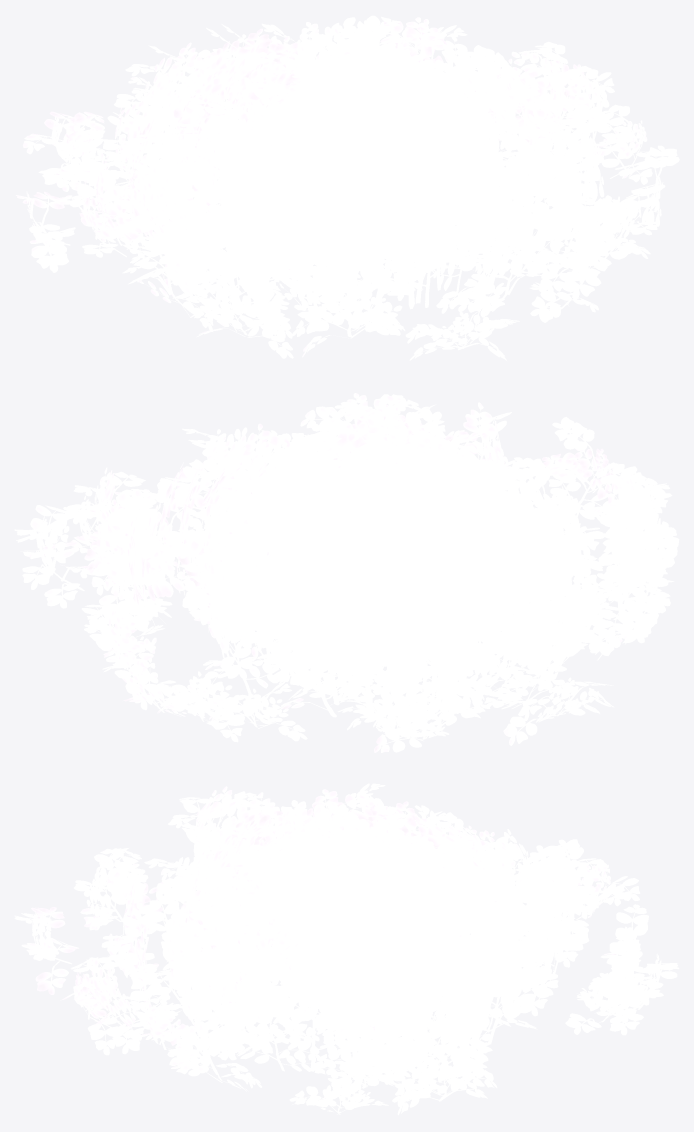
3 renders of one model, top to bottom at view 1: azimuth 30°, elevation 25°; view 2: azimuth 150°, elevation 25°; view 3: azimuth 270°, elevation 25°, orthographic. The views are drawn at different scales.
Visible parts, largest first — view 1: SM_FH_Medium_Bush_Meadows_B_LOD0; view 2: SM_FH_Medium_Bush_Meadows_B_LOD0; view 3: SM_FH_Medium_Bush_Meadows_B_LOD0.
Part boxes in pixels (<box>): SM_FH_Medium_Bush_Meadows_B_LOD0: <box>16,15,679,360</box>; SM_FH_Medium_Bush_Meadows_B_LOD0: <box>14,393,679,752</box>; SM_FH_Medium_Bush_Meadows_B_LOD0: <box>14,783,679,1115</box>.
Bounding box in the file's own units: 3.39 × 1.26 × 3.62.
Materials: 1 (1 with a texture image).
